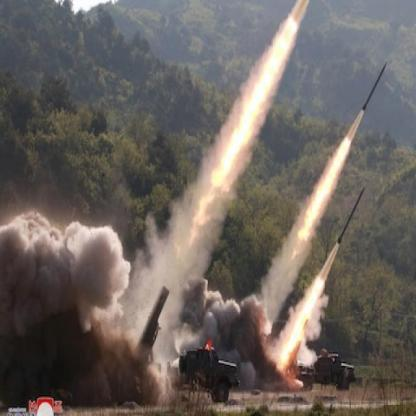MIL_TBM: (334, 181, 370, 254), (353, 57, 390, 117)
